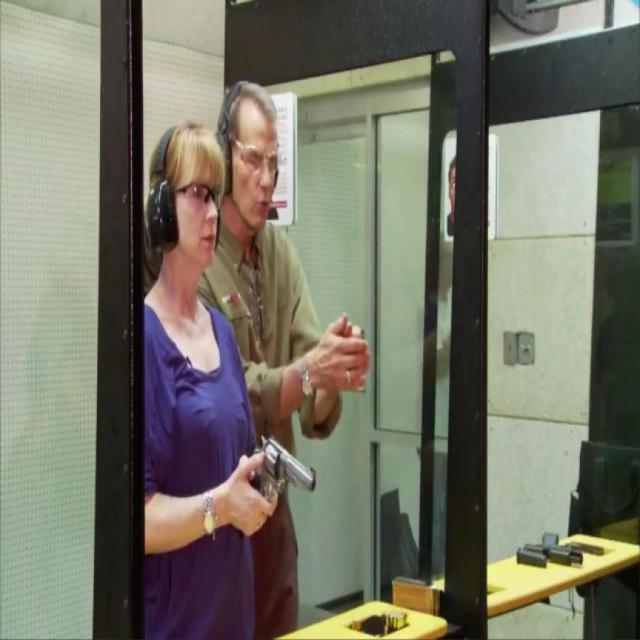pistol: (251, 432, 317, 520)
